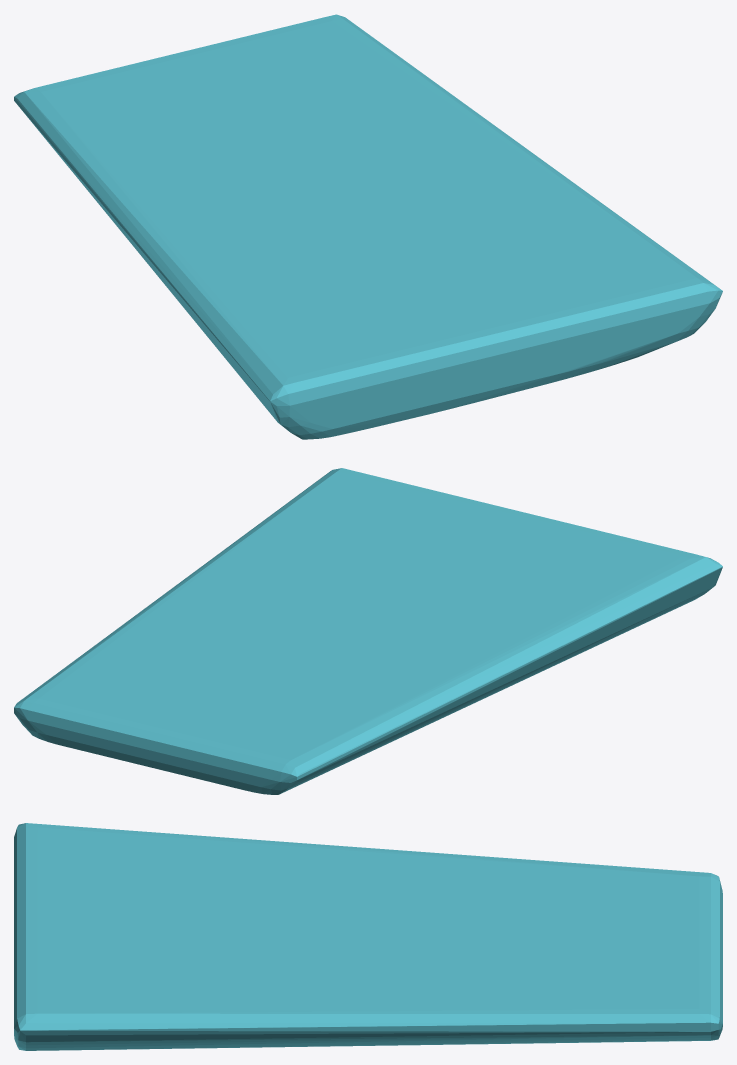
File: right_hip_pitch_link_part_2.obj
3 views of the same model, one above another, from view 1: azimuth 30°, elevation 25°; view 2: azimuth 150°, elevation 25°; view 3: azimuth 270°, elevation 25° (orthographic). The views are drawn at different scales.
Size of the model in its own units: 0.0887 by 0.0121 by 0.129.
